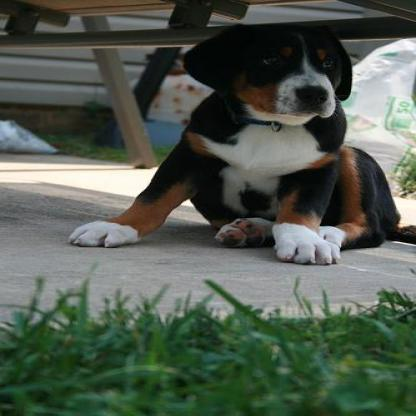Greater_Swiss_Mountain_dog: (63, 20, 400, 265)
